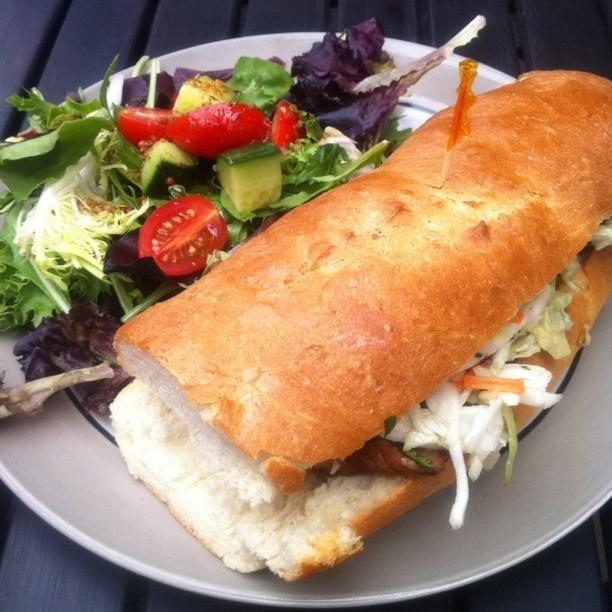carrot: (464, 374, 524, 393), (508, 312, 524, 324), (465, 368, 474, 376)
cucumber: (216, 138, 282, 214), (141, 137, 200, 198)
tomato: (138, 196, 228, 276), (164, 103, 274, 159), (116, 105, 172, 149), (268, 100, 306, 152)
